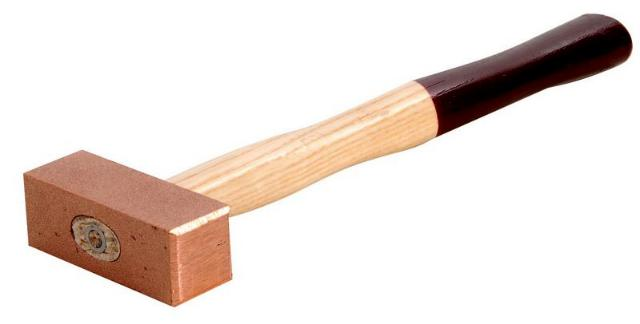hammer: (17, 9, 635, 314)
